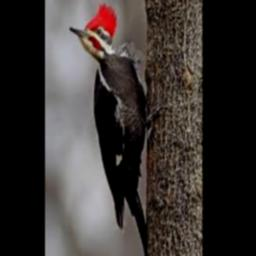Woodpecker: (70, 4, 167, 256)
